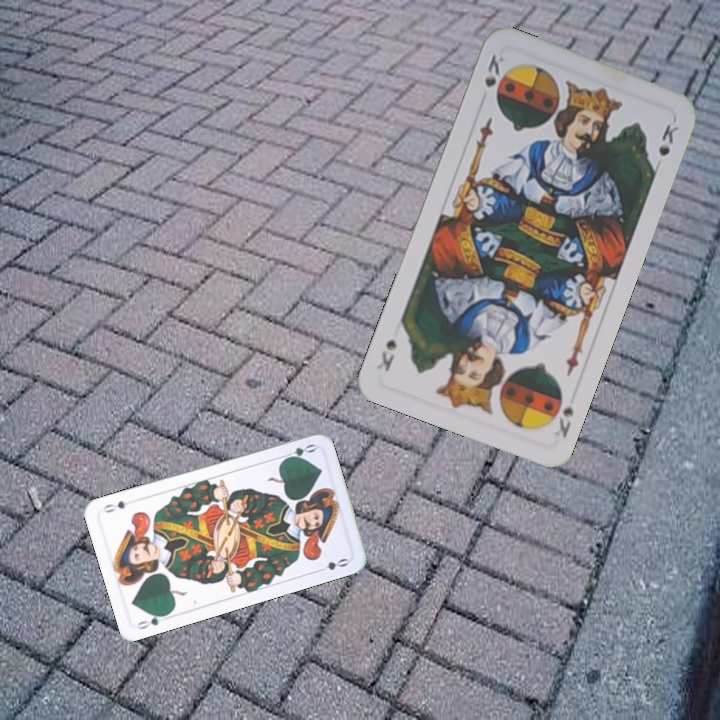GO: (278, 440, 318, 464), (133, 610, 173, 632)
SK: (480, 50, 507, 90), (550, 403, 577, 441)
